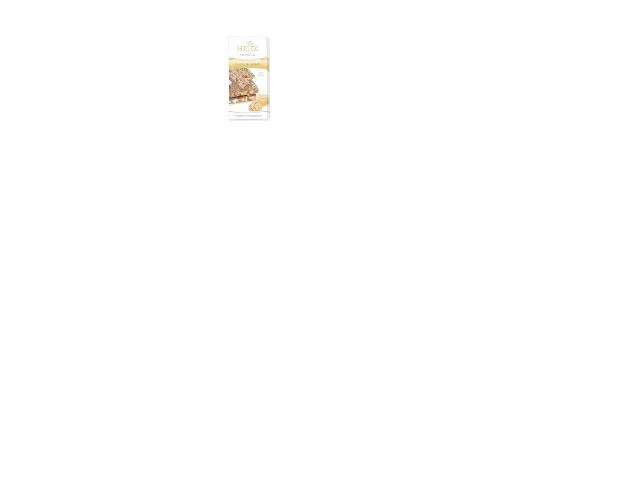chocolate: (227, 33, 271, 123)
